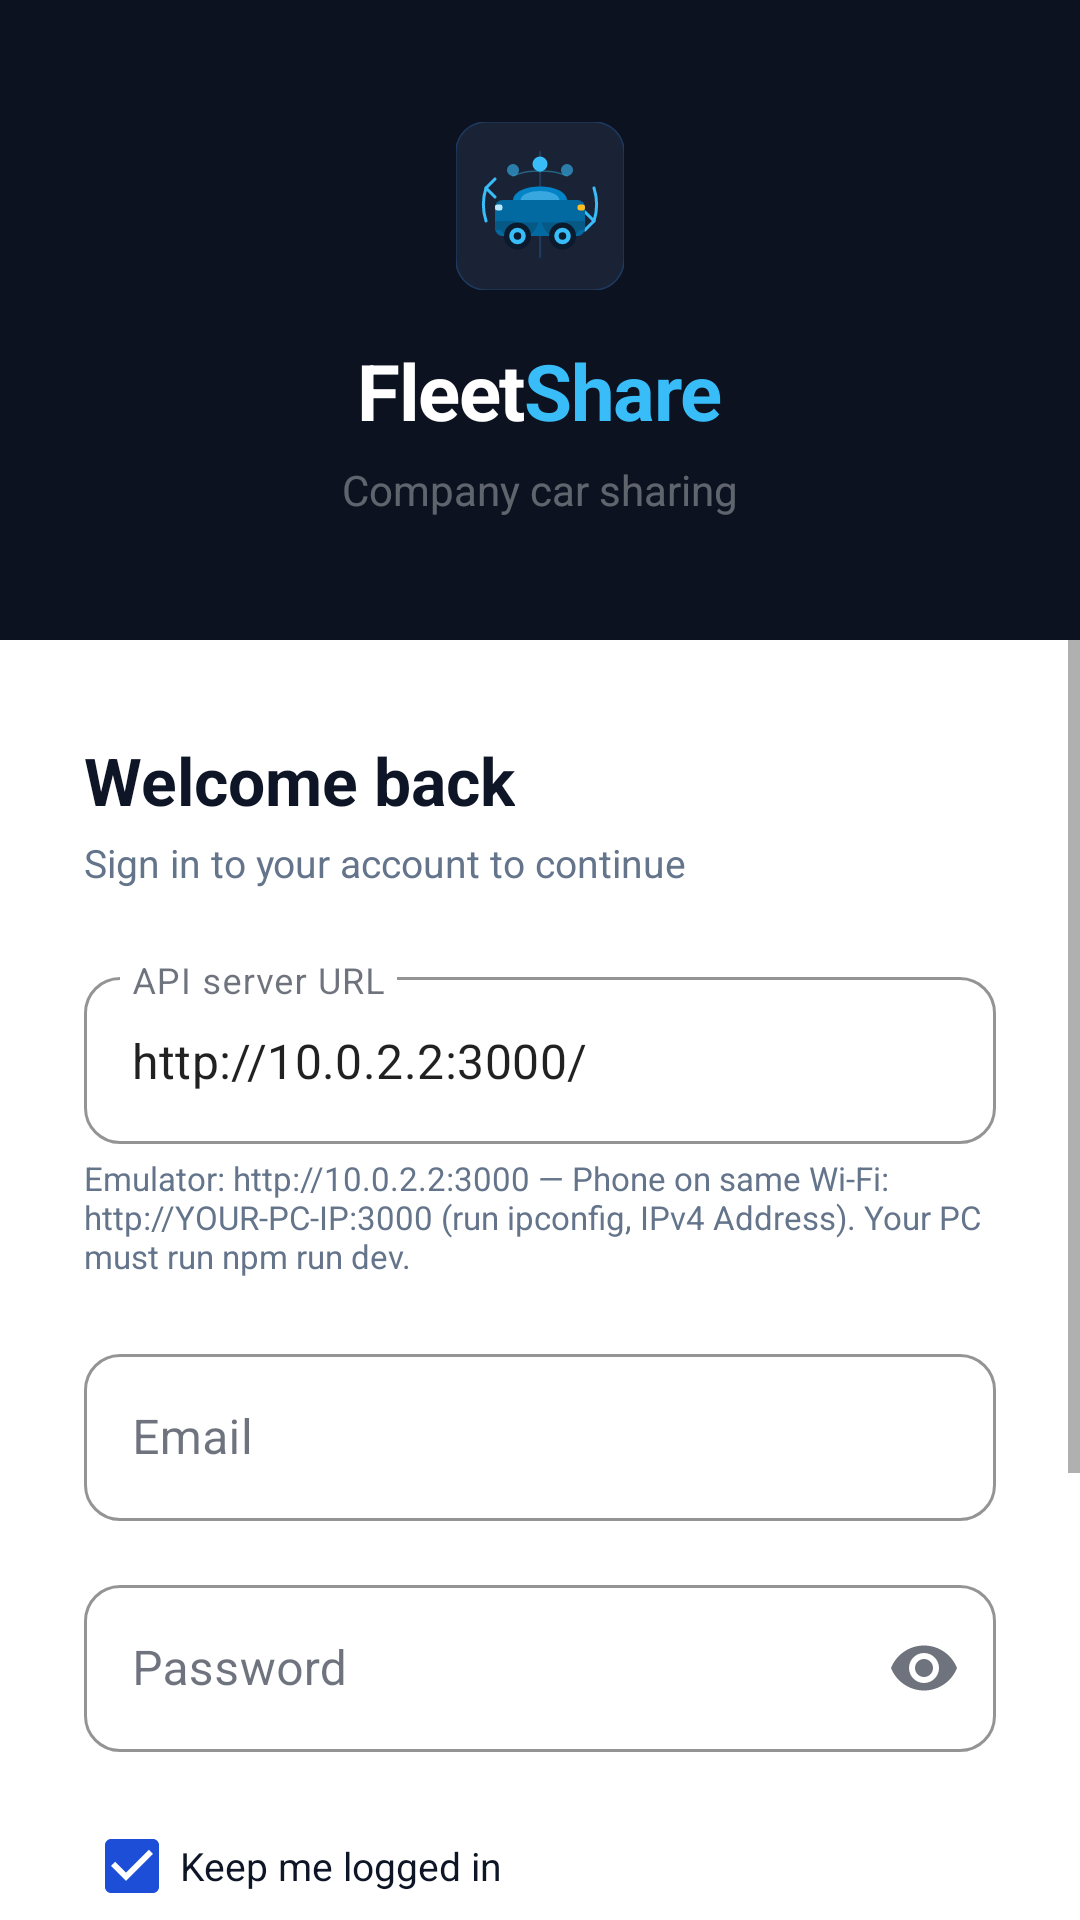

Named icons in this screenshot (1080px×1920px) and their centers, (x=x, y=y):
brand mark: (x=540, y=206)
